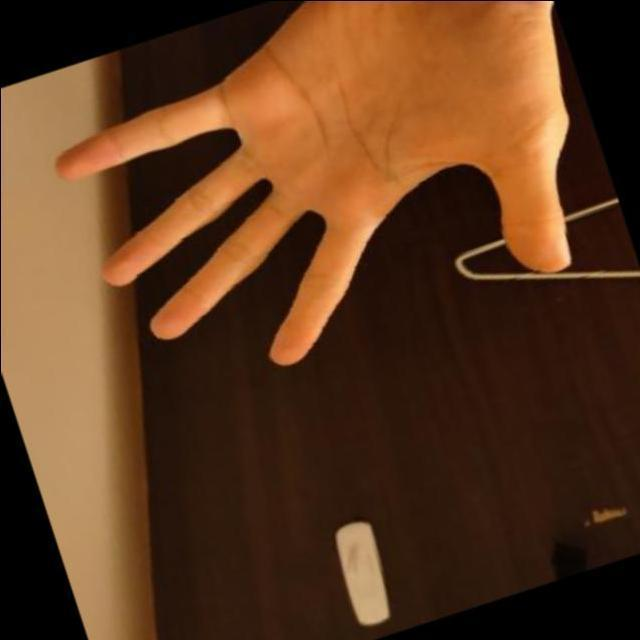bare_hand: (36, 2, 606, 366)
